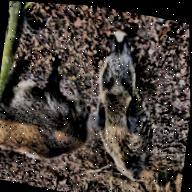boar: (73, 16, 176, 188), (0, 70, 101, 173)
